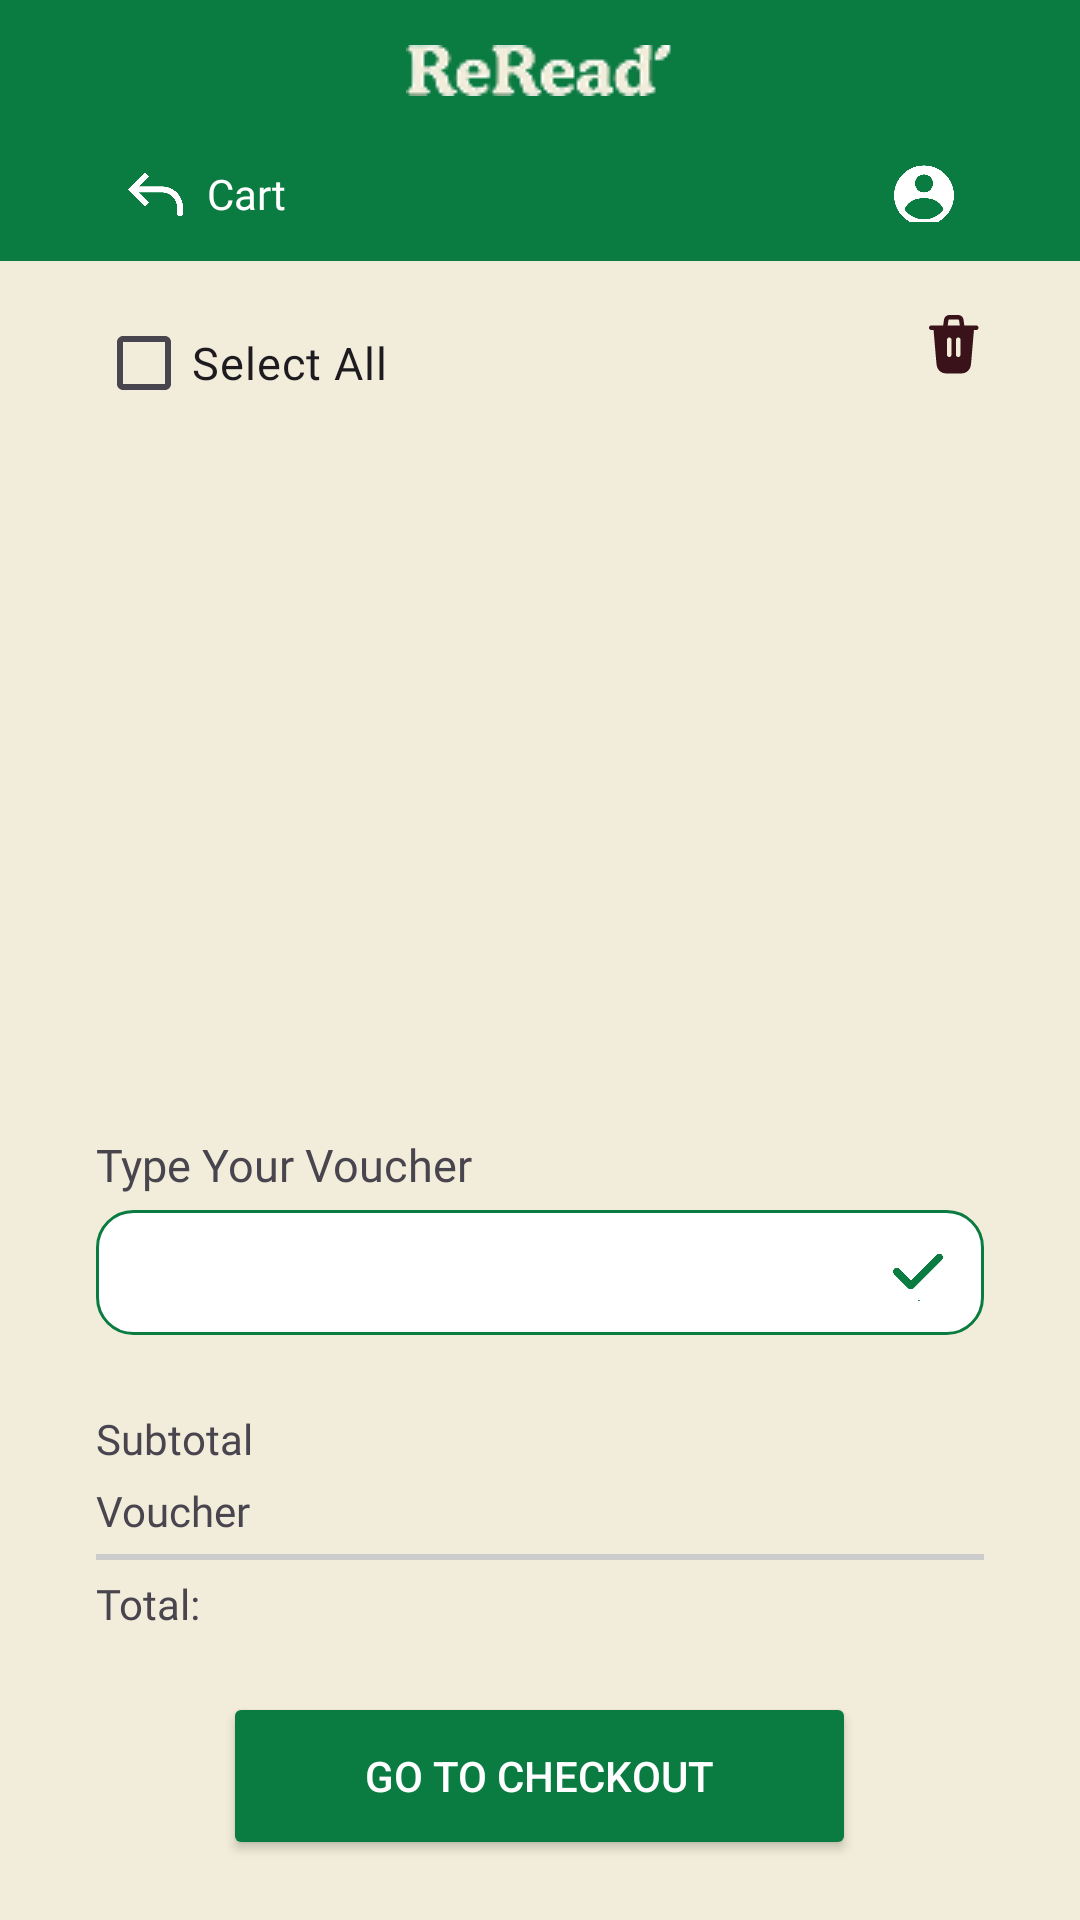

Where icons sit on this 1080×1920 app screen, as (x1, y1, x2, y2):
back: (128, 173, 183, 216)
bin: (929, 315, 979, 374)
profile: (894, 165, 954, 222)
tick: (893, 1254, 943, 1301)
